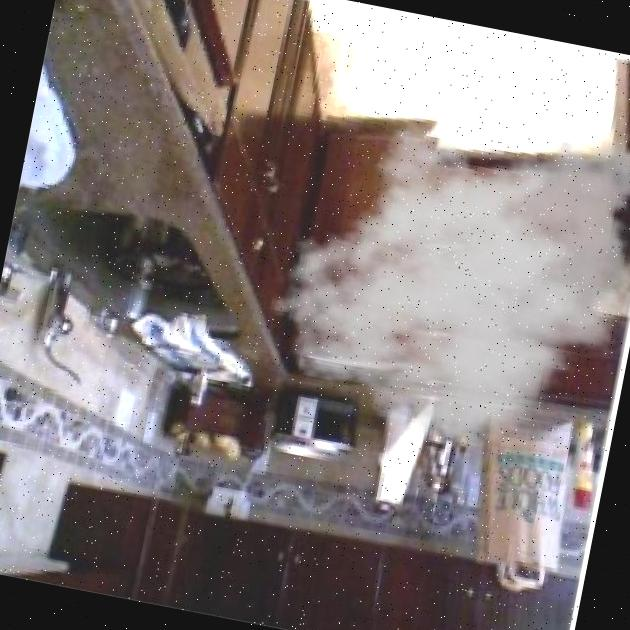smoke: (255, 91, 630, 482)
